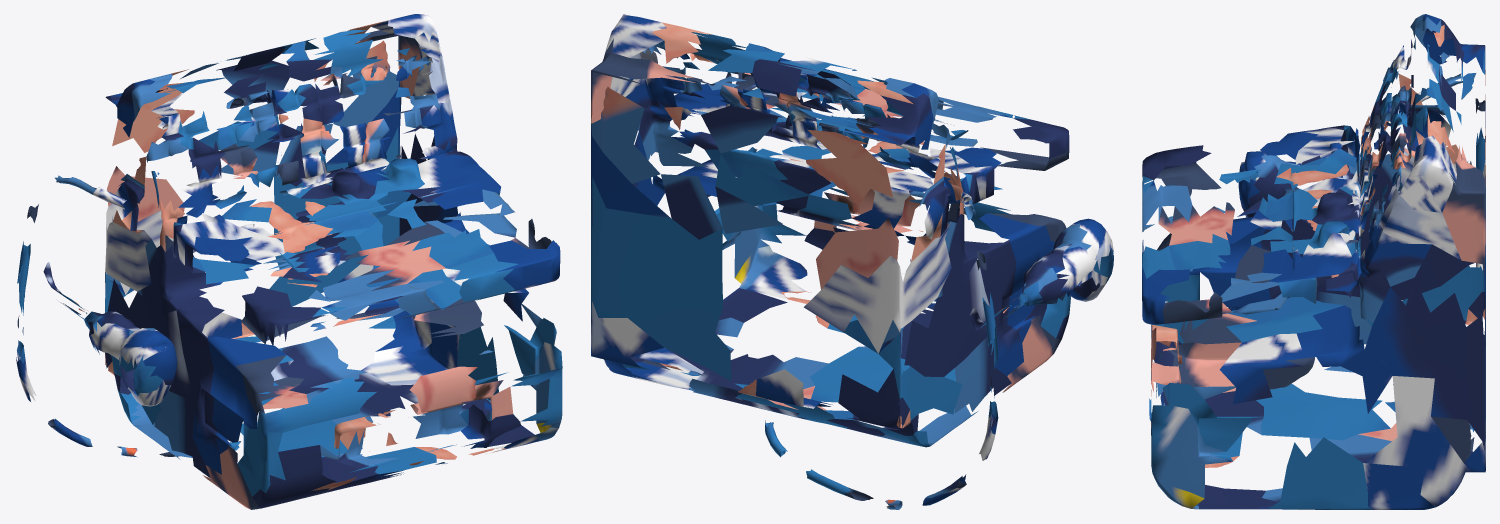
Rendered from Tulio.fbx.
The picture shows the model from 3 angles, left to right: view 1: azimuth 30°, elevation 25°; view 2: azimuth 150°, elevation 25°; view 3: azimuth 270°, elevation 25°; orthographic projection. The views are drawn at different scales.
Visible parts, largest first — view 1: file1; view 2: file1; view 3: file1.
Part boxes in pixels (left/top/right/bottom): file1: left=16, top=14, right=562, bottom=509; file1: left=591, top=14, right=1113, bottom=509; file1: left=1142, top=14, right=1485, bottom=509.
Bounding box in the file's own units: 4090 × 4013 × 3065.
